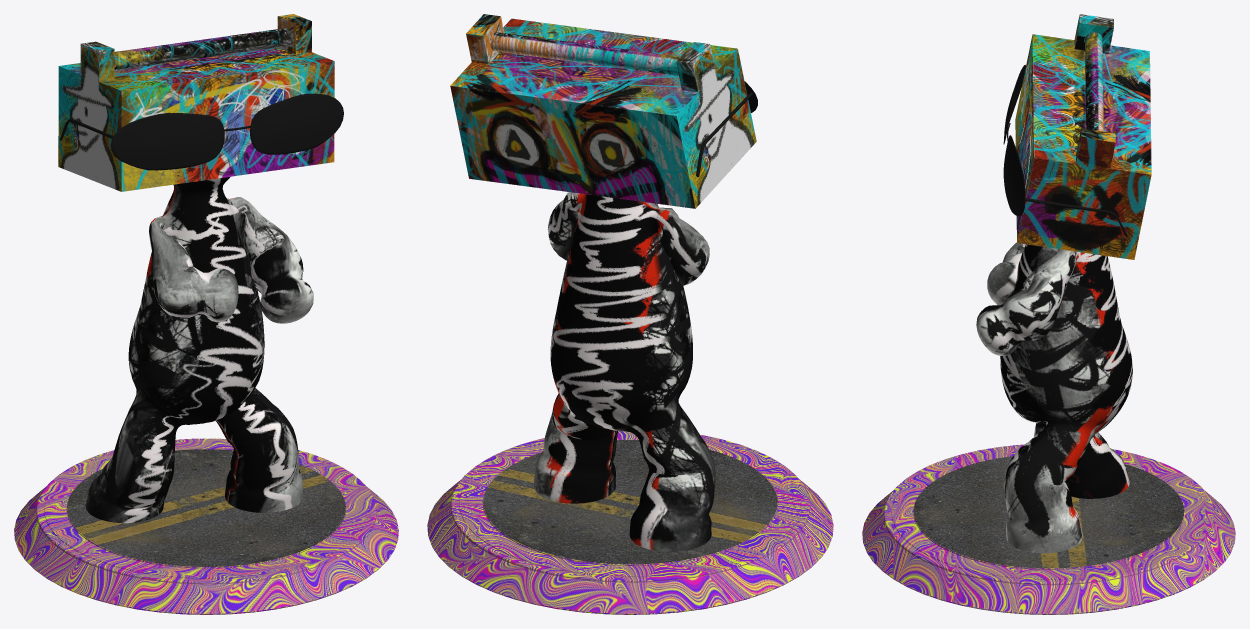
The model's file is 150_sanitized.glb.
3 renders of one model, left to right at view 1: azimuth 30°, elevation 25°; view 2: azimuth 150°, elevation 25°; view 3: azimuth 270°, elevation 25°, orthographic. The views are drawn at different scales.
Visible parts, largest first — view 1: BBody; view 2: BBody; view 3: BBody.
Part boxes in pixels (bbox=[...]): BBody: bbox=[14, 14, 398, 614]; BBody: bbox=[427, 14, 833, 614]; BBody: bbox=[862, 14, 1235, 614].
Size of the model in its own units: 1.45 by 2.05 by 1.45.
Materials: 5 (4 with a texture image).
